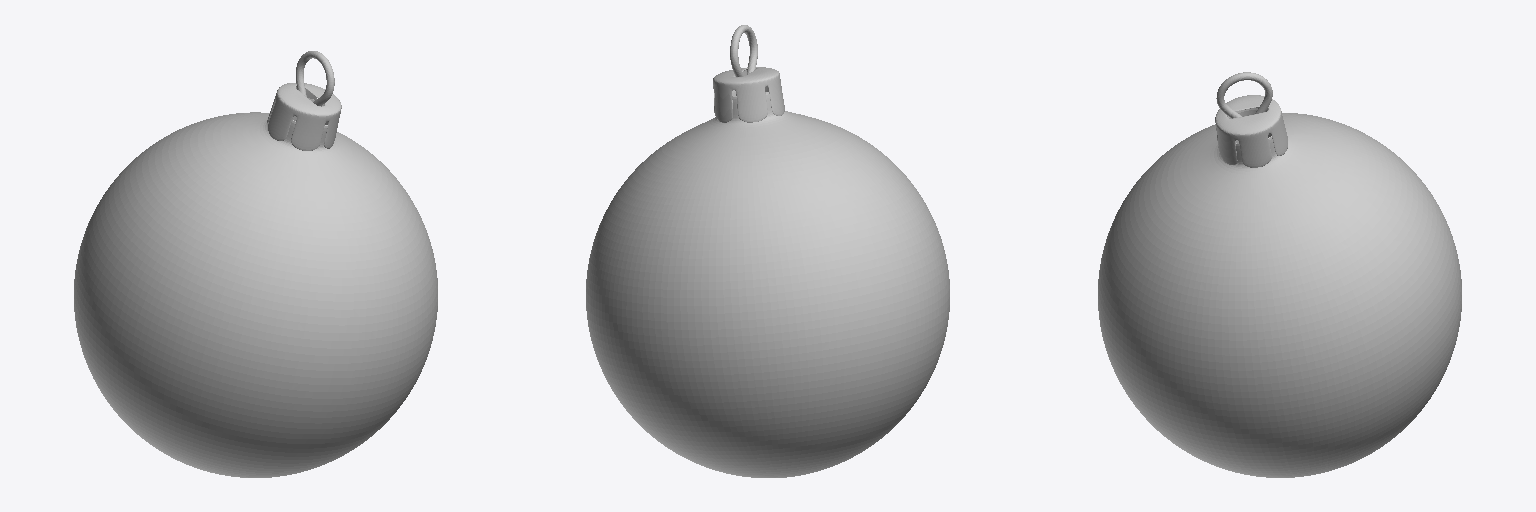
The model's file is ball.obj.
The picture shows the model from 3 angles: view 1: azimuth 30°, elevation 25°; view 2: azimuth 150°, elevation 25°; view 3: azimuth 270°, elevation 25°; orthographic projection.
Parts seen in each view (by area): view 1: 11576_glass_ball_v3_L3; view 2: 11576_glass_ball_v3_L3; view 3: 11576_glass_ball_v3_L3.
Boxes of the visible parts, x1=… form: 11576_glass_ball_v3_L3: x1=74, y1=51, x2=437, y2=477; 11576_glass_ball_v3_L3: x1=586, y1=25, x2=949, y2=477; 11576_glass_ball_v3_L3: x1=1098, y1=72, x2=1461, y2=477.
Bounding box in the file's own units: 4.89 × 6.08 × 4.89.